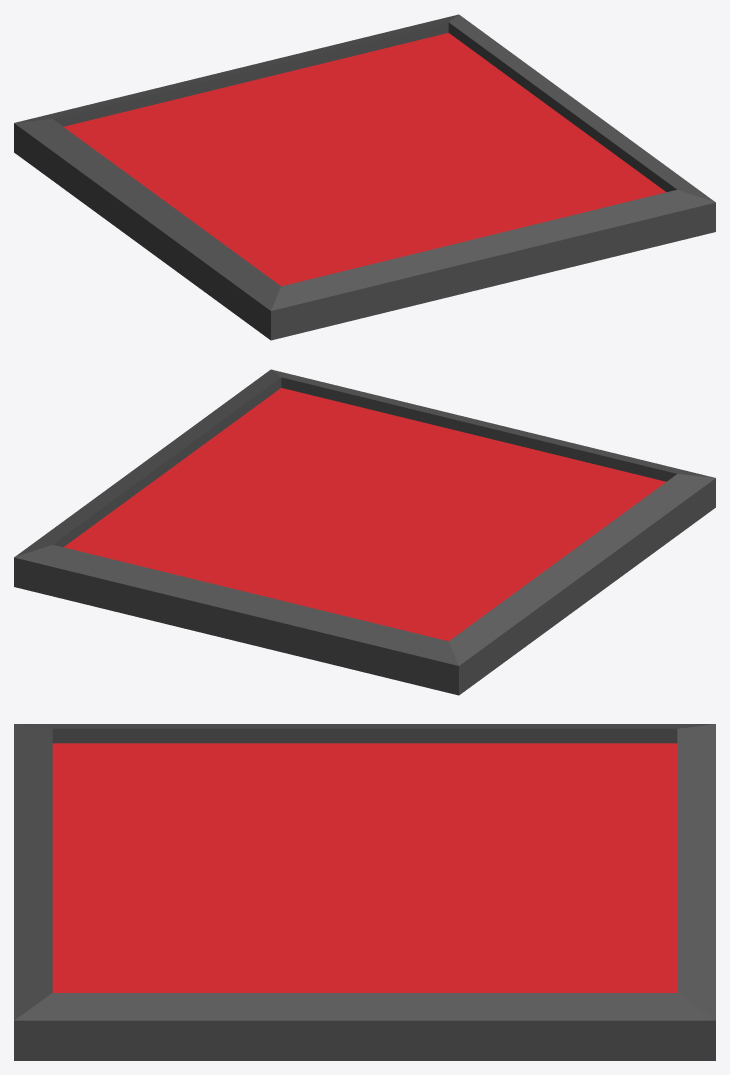
File: Button Wip.fbx
3 views of the same model, one above another, from view 1: azimuth 30°, elevation 25°; view 2: azimuth 150°, elevation 25°; view 3: azimuth 270°, elevation 25° (orthographic). The views are drawn at different scales.
Parts seen in each view (by area): view 1: Cube; view 2: Cube; view 3: Cube.
Boxes of the visible parts, bbox=[...] form: Cube: bbox=[14, 14, 715, 340]; Cube: bbox=[14, 369, 715, 695]; Cube: bbox=[14, 724, 715, 1060].
Bounding box in the file's own units: 200 × 16.28 × 200.
